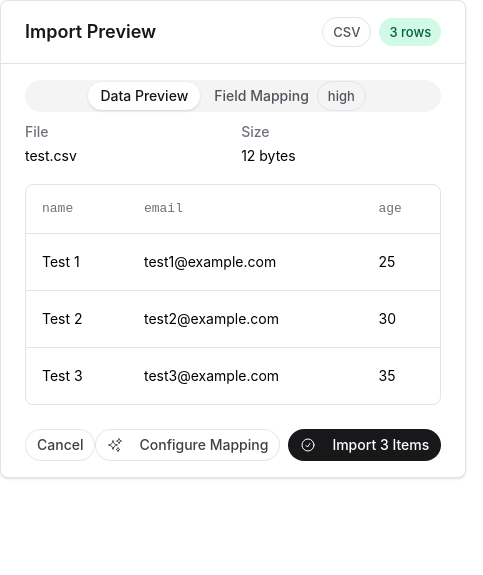
it: ImportPreviewWithMapping › Custom Field Mapping › switches to mapping tab when configure button clicked
Click the button "Configure Mapping" at (188,444), box x1=96 y1=428 x2=280 y2=460
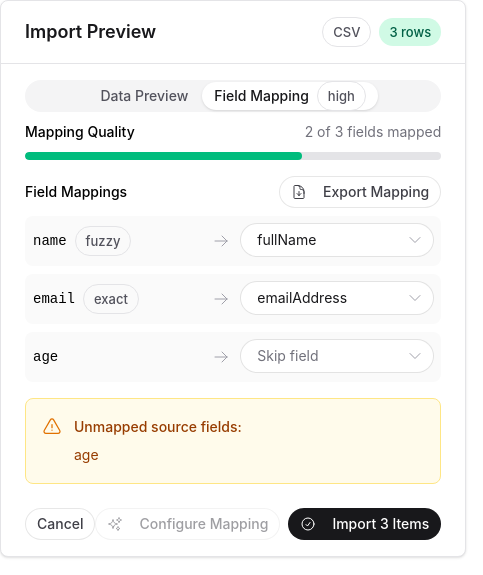
Expected: the button "Configure Mapping" is disabled, x1=96 y1=508 x2=280 y2=540
